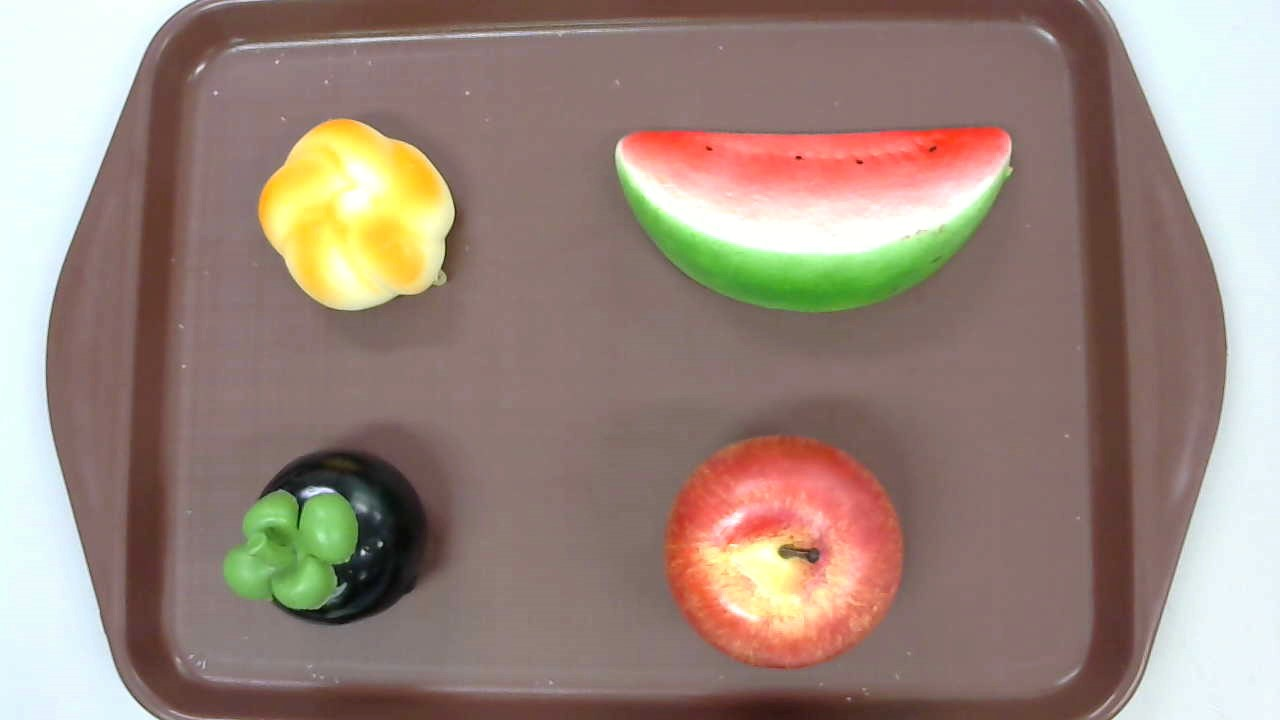mangosteen: (221, 450, 428, 628)
red apple: (664, 434, 907, 671)
twist bread: (258, 117, 454, 314)
watermelon: (612, 124, 1013, 315)
